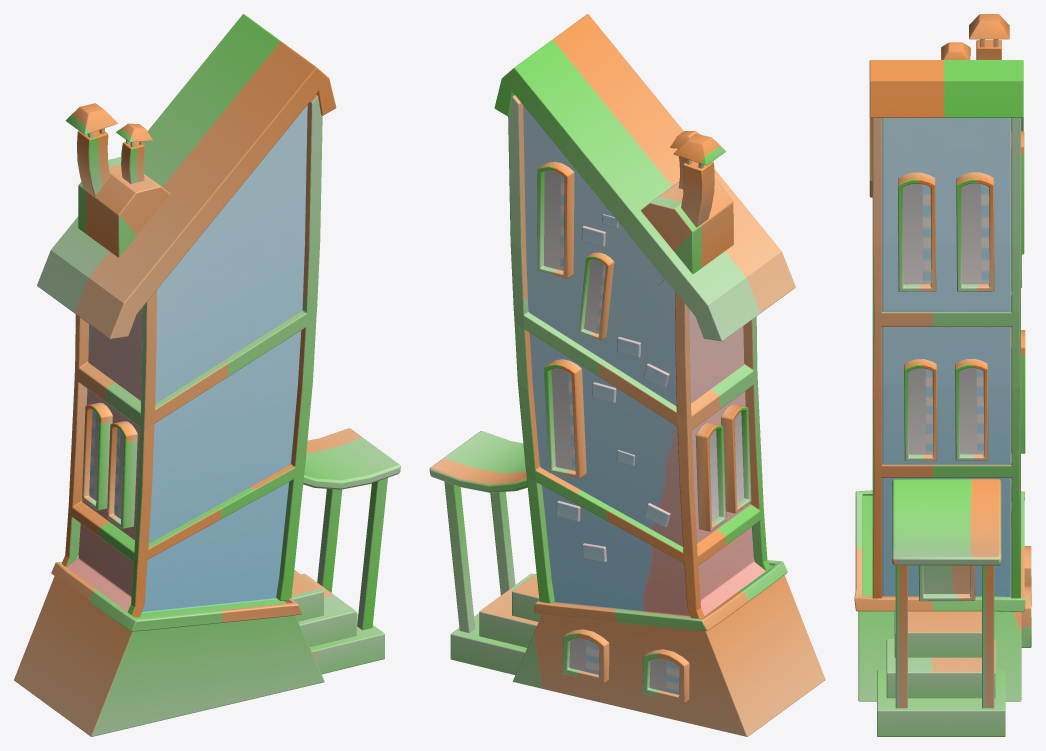
Rendered from HouseC_v2.fbx.
The picture shows the model from 3 angles, left to right: view 1: azimuth 30°, elevation 25°; view 2: azimuth 150°, elevation 25°; view 3: azimuth 270°, elevation 25°; orthographic projection. The views are drawn at different scales.
Parts seen in each view (by area): view 1: HouseC_v2.; view 2: HouseC_v2.; view 3: HouseC_v2..
Part boxes in pixels (x1=…): HouseC_v2.: x1=14, y1=14, x2=400, y2=736; HouseC_v2.: x1=429, y1=14, x2=825, y2=736; HouseC_v2.: x1=854, y1=14, x2=1031, y2=736.
Size of the model in its own units: 722 by 1292 by 324.
